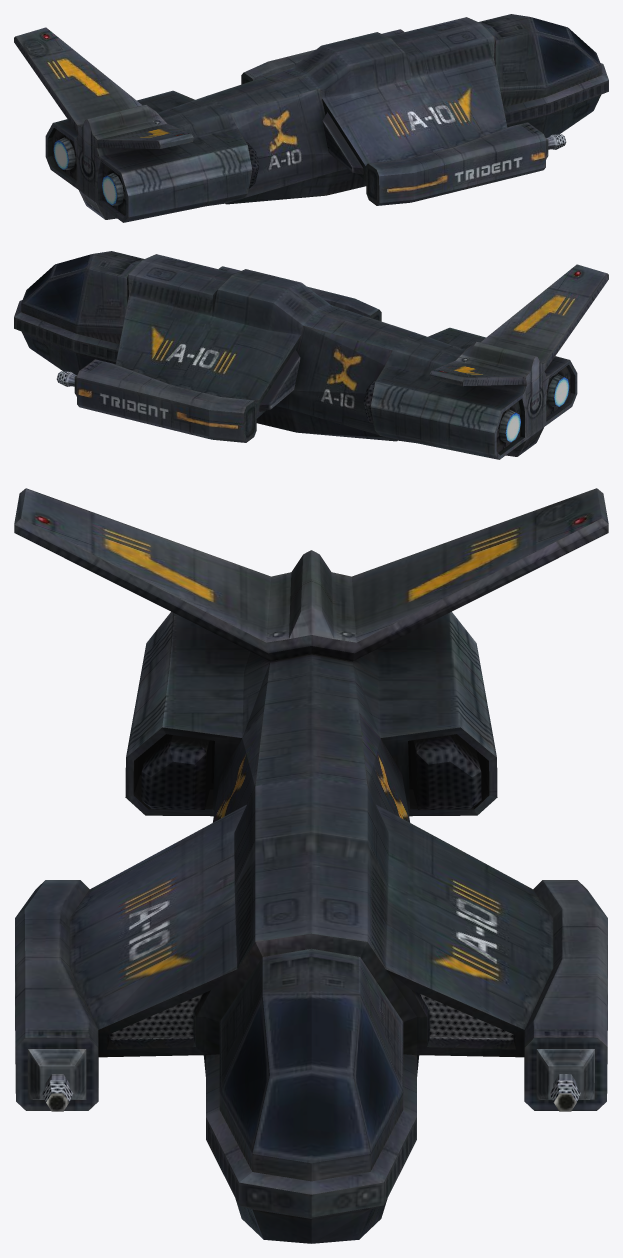
File: Trident-A10.obj
3 views of the same model, one above another, from view 1: azimuth 30°, elevation 25°; view 2: azimuth 150°, elevation 25°; view 3: azimuth 270°, elevation 25° (orthographic). The views are drawn at different scales.
Parts seen in each view (by area): view 1: Trident_Space_Fighter; view 2: Trident_Space_Fighter; view 3: Trident_Space_Fighter.
Part boxes in pixels (x1,y1,x2,y2): Trident_Space_Fighter: (14, 14, 608, 222); Trident_Space_Fighter: (14, 251, 608, 459); Trident_Space_Fighter: (14, 488, 608, 1243).
Size of the model in its own units: 2058 by 580 by 1023.
Materials: 1 (1 with a texture image).
